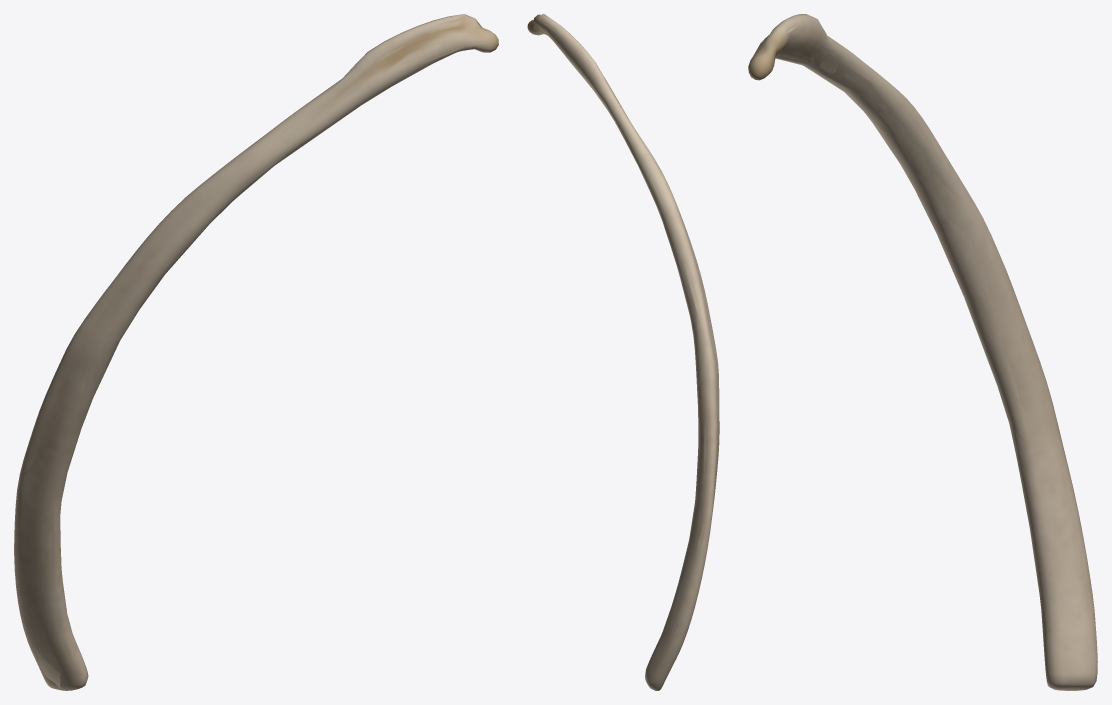
Rendered from Rib R10.fbx.
3 renders of one model, left to right at view 1: azimuth 30°, elevation 25°; view 2: azimuth 150°, elevation 25°; view 3: azimuth 270°, elevation 25°, orthographic. The views are drawn at different scales.
Visible parts, largest first — view 1: Rib R10, Rib R10 low; view 2: Rib R10, Rib R10 low; view 3: Rib R10 low, Rib R10.
Part boxes in pixels (left/top/right/bottom): Rib R10: left=14, top=14, right=498, bottom=690; Rib R10 low: left=14, top=17, right=495, bottom=690; Rib R10: left=527, top=14, right=719, bottom=690; Rib R10 low: left=529, top=16, right=719, bottom=690; Rib R10 low: left=749, top=17, right=1097, bottom=688; Rib R10: left=748, top=14, right=1097, bottom=690.
Bounding box in the file's own units: 24.28 × 45.67 × 17.64.
1 material, 1 textured.
